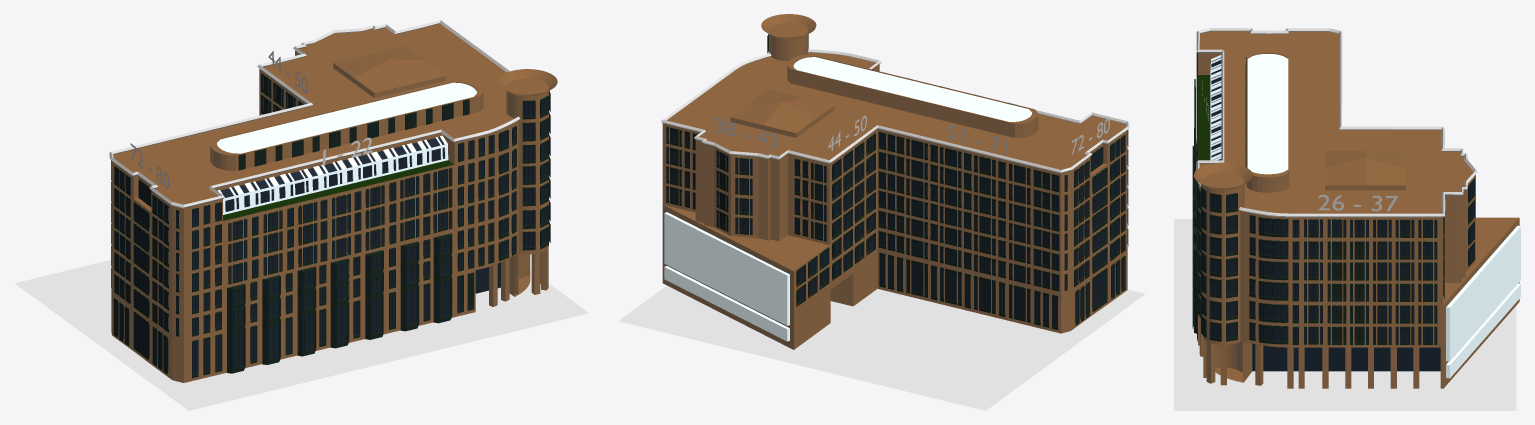
The model's file is Broadwalk.glb.
3 views of the same model, side by side, from view 1: azimuth 30°, elevation 25°; view 2: azimuth 150°, elevation 25°; view 3: azimuth 270°, elevation 25° (orthographic). The views are drawn at different scales.
Visible parts, largest first — view 1: a building, windows.433, CaptureVHMVHMVMVM, Cube.017, windows.331, Circle.001, a building.003, Cube.018, Drop81, Drop82, Drop76, Drop14 (+31 smaller); view 2: a building, CaptureVHMVHMVMVM, windows.446, Cube.017, Cube.025, windows.331, windows.289, a building.003, Circle.001, Drop76, windows.407, windows.076 (+23 smaller); view 3: a building, CaptureVHMVHMVMVM, Cube.017, Cube.025, windows.482, Circle.001, windows.487, a building.003, windows.009, windows.088, Drop36, Drop37 (+20 smaller).
Boxes of the visible parts, x1,y1,x2,y2 form: a building: [111, 23, 530, 382]; windows.433: [192, 167, 474, 378]; CaptureVHMVHMVMVM: [15, 260, 588, 410]; Cube.017: [210, 45, 483, 170]; windows.331: [113, 166, 168, 374]; Circle.001: [497, 69, 557, 294]; a building.003: [109, 20, 520, 208]; Cube.018: [217, 135, 448, 214]; Drop81: [220, 137, 444, 211]; Drop82: [238, 99, 469, 170]; Drop76: [134, 182, 150, 355]; Drop14: [401, 178, 418, 324]; a building: [662, 52, 1127, 349]; CaptureVHMVHMVMVM: [618, 285, 1145, 410]; windows.446: [878, 132, 1059, 329]; Cube.017: [730, 54, 1038, 137]; Cube.025: [664, 212, 789, 341]; windows.331: [1074, 135, 1125, 325]; windows.289: [796, 133, 875, 306]; a building.003: [661, 49, 1129, 173]; Circle.001: [761, 14, 816, 61]; Drop76: [1090, 149, 1106, 308]; windows.407: [716, 150, 752, 234]; windows.076: [794, 158, 826, 241]; a building: [1198, 31, 1519, 388]; CaptureVHMVHMVMVM: [1174, 219, 1516, 410]; Cube.017: [1246, 50, 1405, 192]; Cube.025: [1446, 225, 1520, 378]; windows.482: [1304, 219, 1368, 344]; Circle.001: [1194, 163, 1252, 379]; windows.487: [1373, 219, 1437, 344]; a building.003: [1196, 28, 1477, 217]; windows.009: [1249, 215, 1299, 344]; windows.088: [1209, 193, 1221, 341]; Drop36: [1396, 222, 1413, 341]; Drop37: [1418, 222, 1436, 341].
Bounding box in the file's own units: 66.93 × 35.42 × 51.12.
